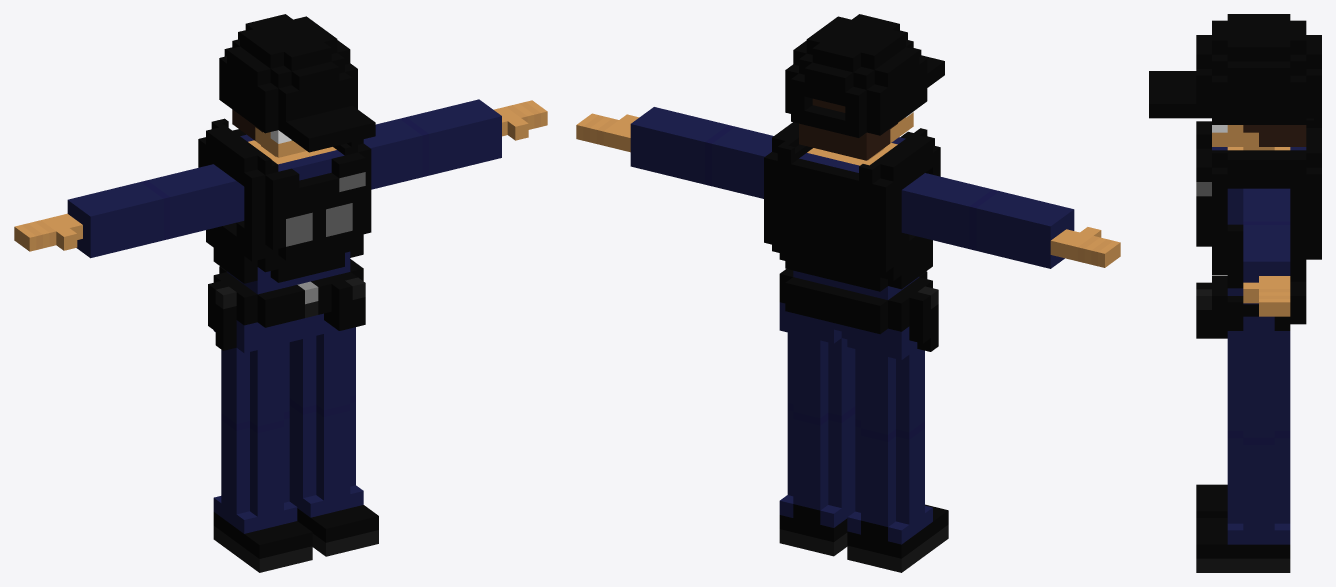
File: Character-4.obj
3 views of the same model, side by side, from view 1: azimuth 30°, elevation 25°; view 2: azimuth 150°, elevation 25°; view 3: azimuth 270°, elevation 25° (orthographic). The views are drawn at different scales.
Visible parts, largest first — view 1: Character-4; view 2: Character-4; view 3: Character-4.
Boxes of the visible parts, <box> form: Character-4: <box>14,14,547,572</box>; Character-4: <box>576,14,1120,572</box>; Character-4: <box>1149,14,1321,572</box>.
Size of the model in its own units: 7.8 by 7.2 by 2.2.
1 material, 1 textured.
